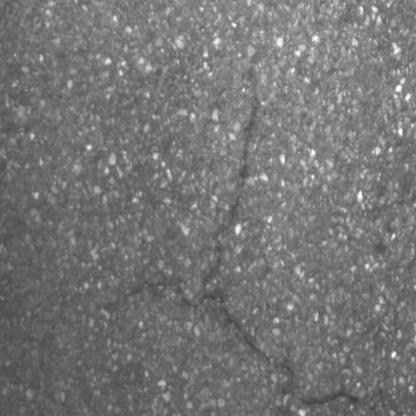Cracks: (98, 101, 372, 410)
